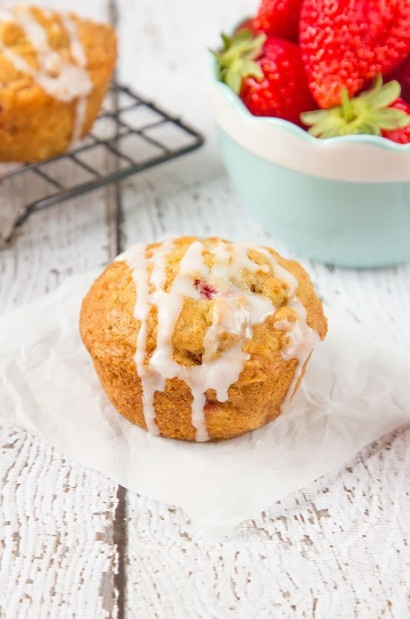background: (51, 204, 211, 427), (129, 0, 262, 140), (1, 4, 75, 158)
